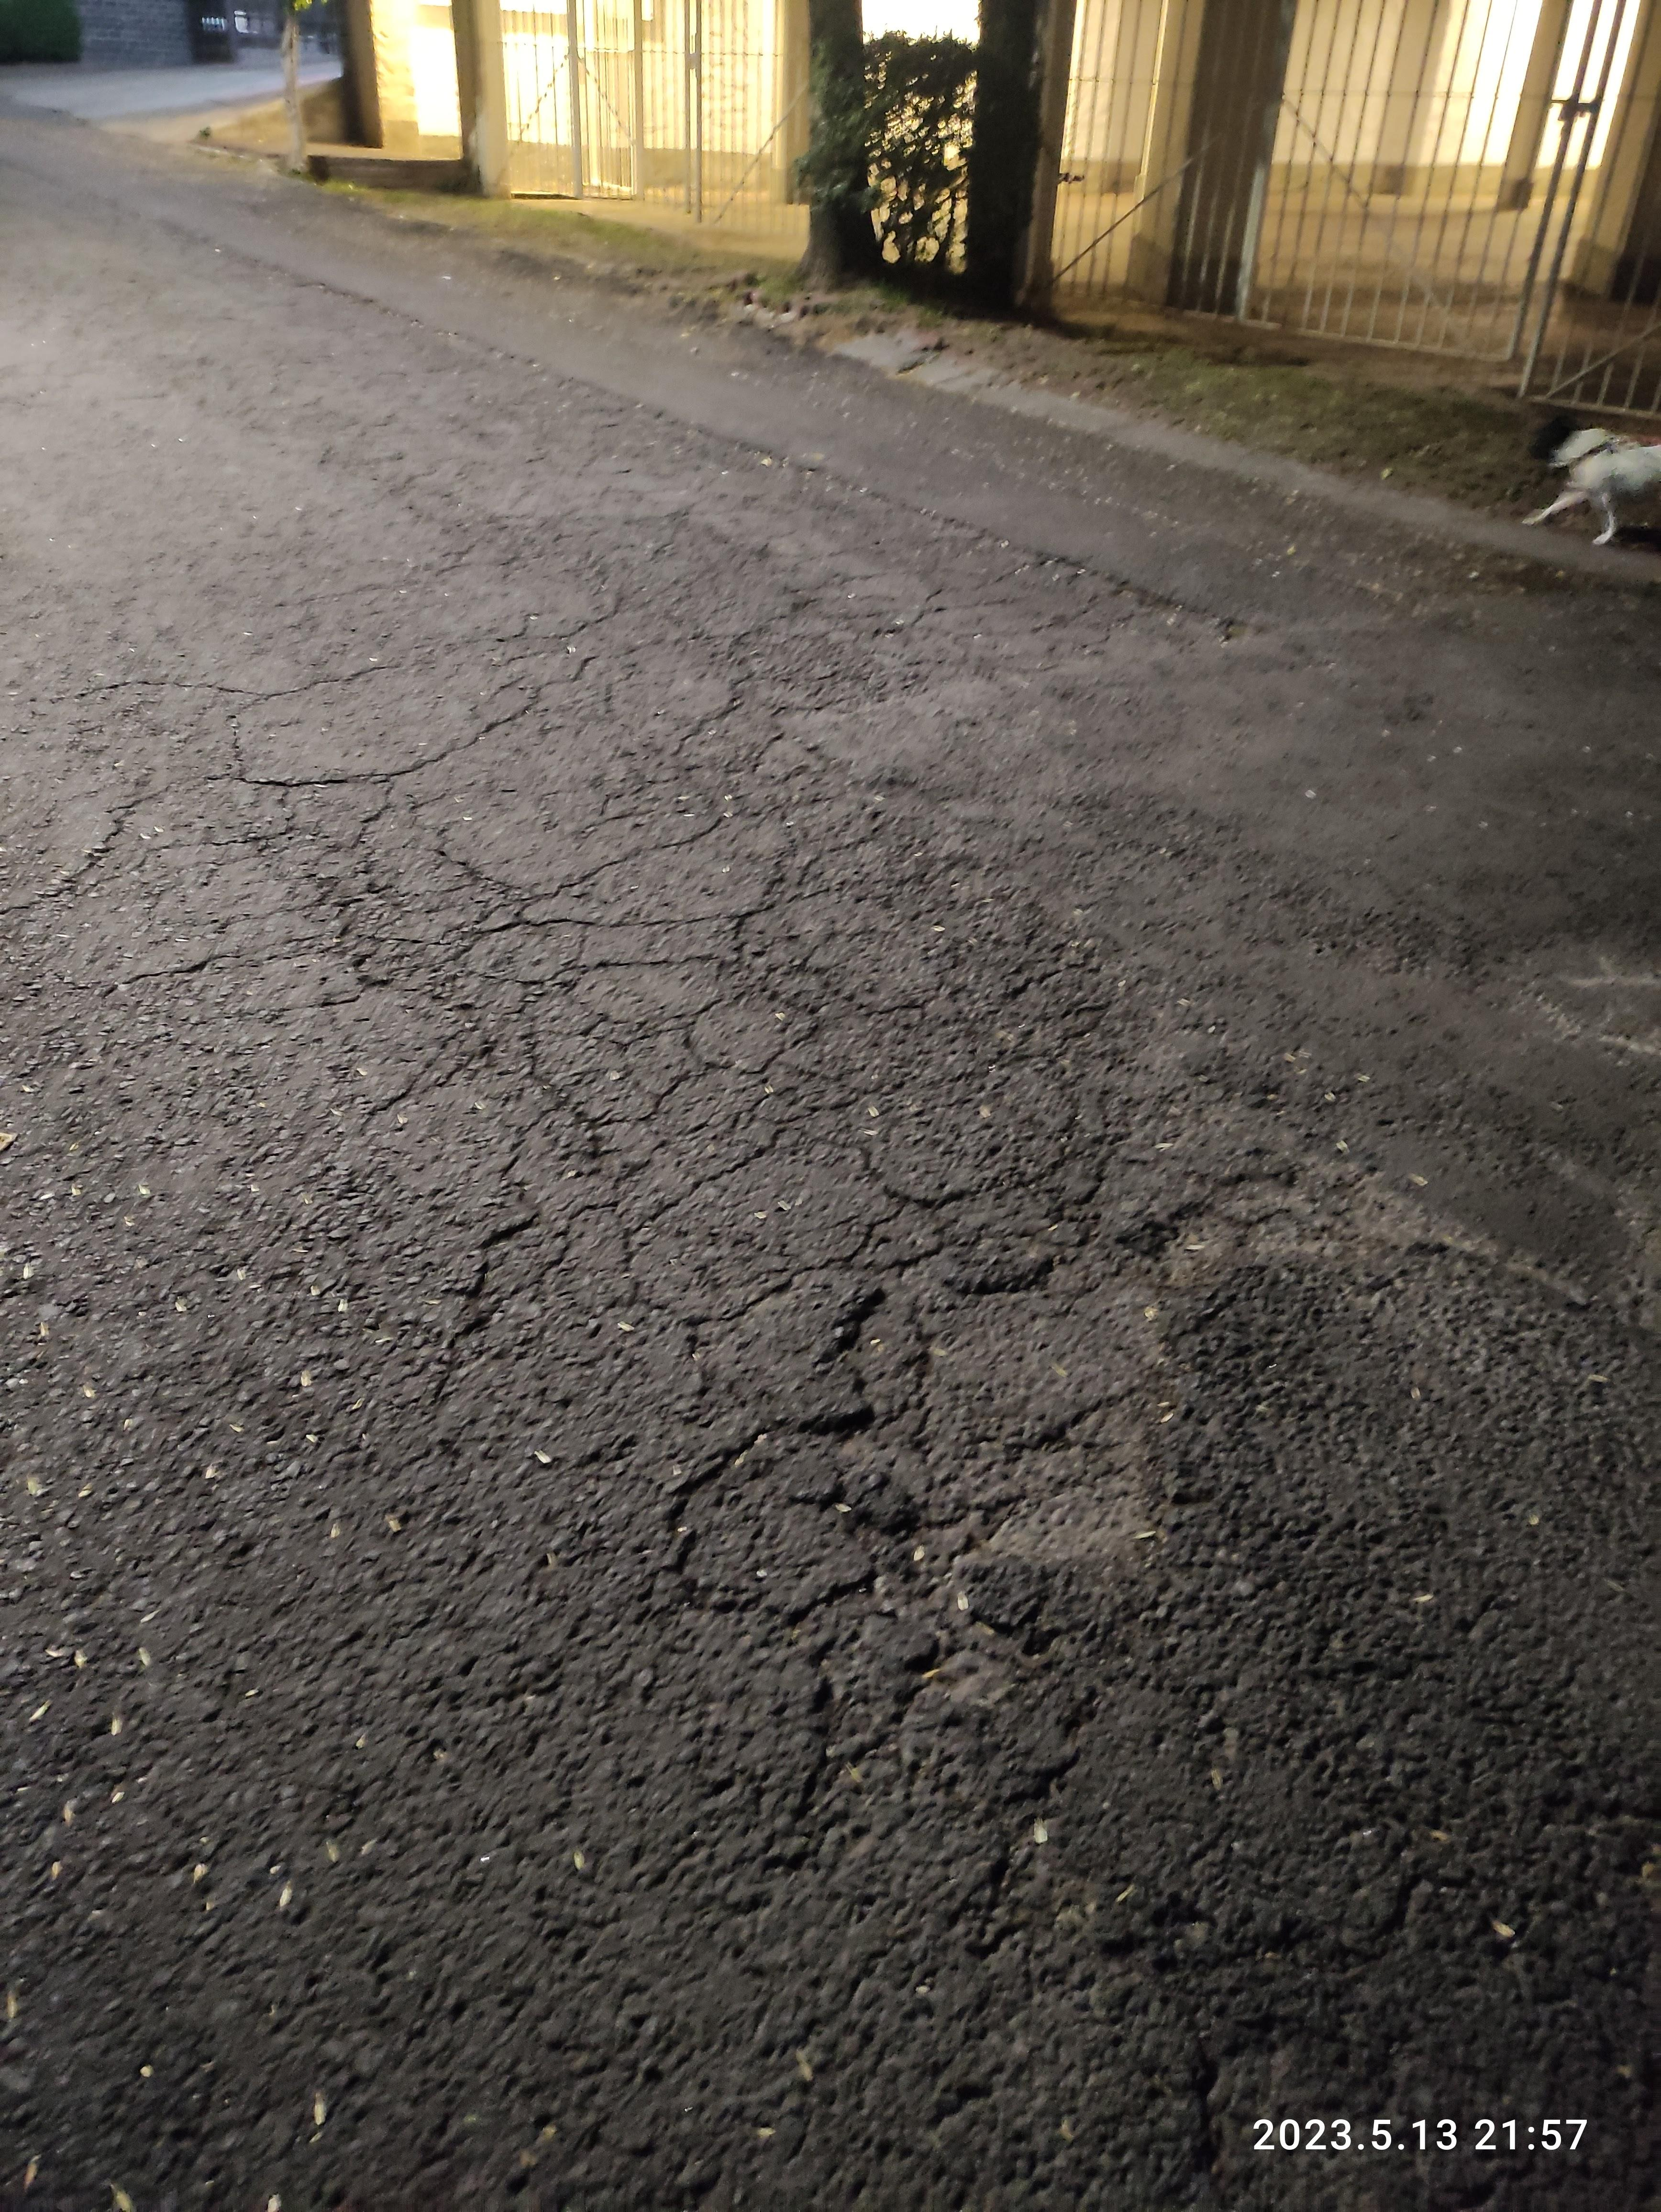alligator-crack: (161, 541, 1661, 1959)
